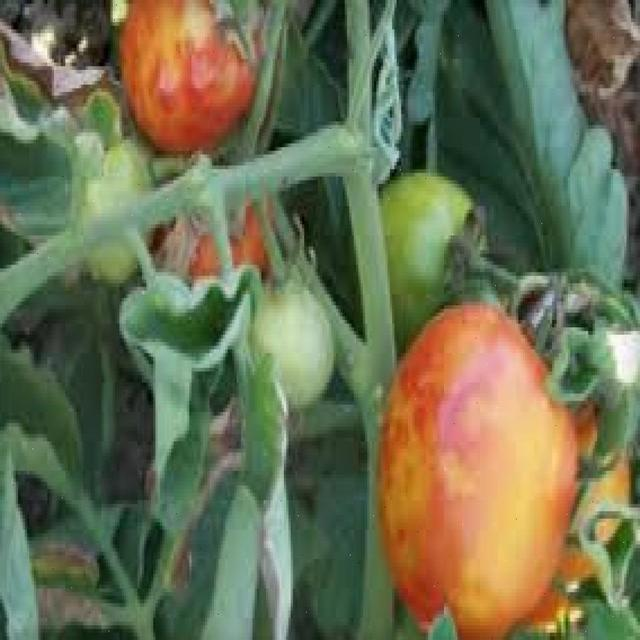Spotted wilt Virus Fruit: (99, 54, 319, 314)
